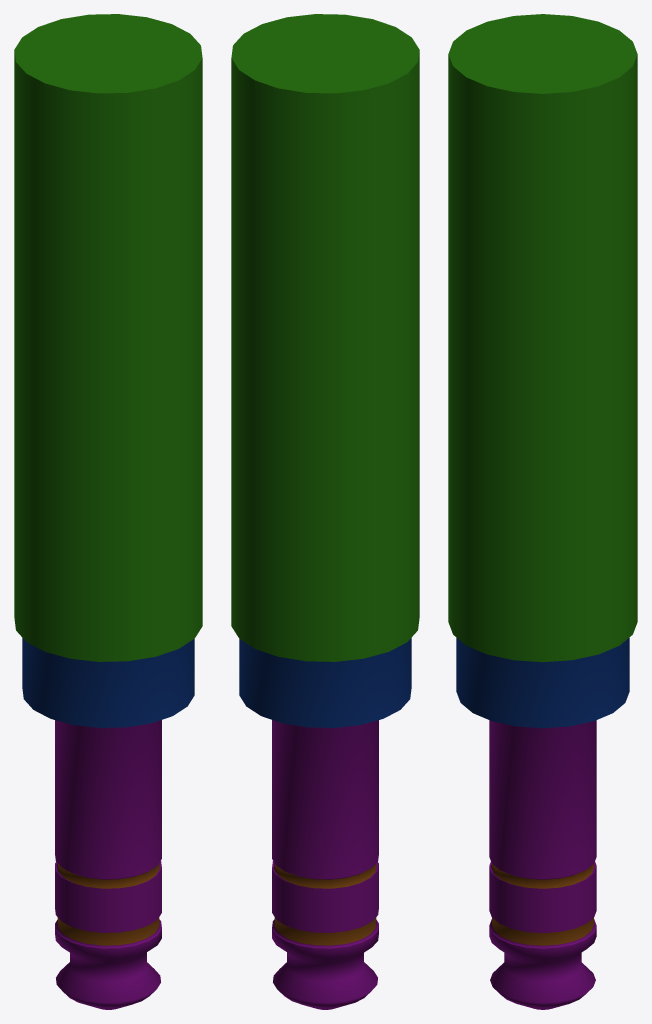
Rendered from SM_ELectrical_Cable 1.fbx.
3 renders of one model, left to right at view 1: azimuth 30°, elevation 25°; view 2: azimuth 150°, elevation 25°; view 3: azimuth 270°, elevation 25°, orthographic.
Visible parts, largest first — view 1: Cable; view 2: Cable; view 3: Cable.
Boxes of the visible parts, bbox=[...] form: Cable: bbox=[14, 14, 202, 1009]; Cable: bbox=[231, 14, 419, 1009]; Cable: bbox=[448, 14, 637, 1009].
Bounding box in the file's own units: 3.1 × 17.29 × 3.1.
